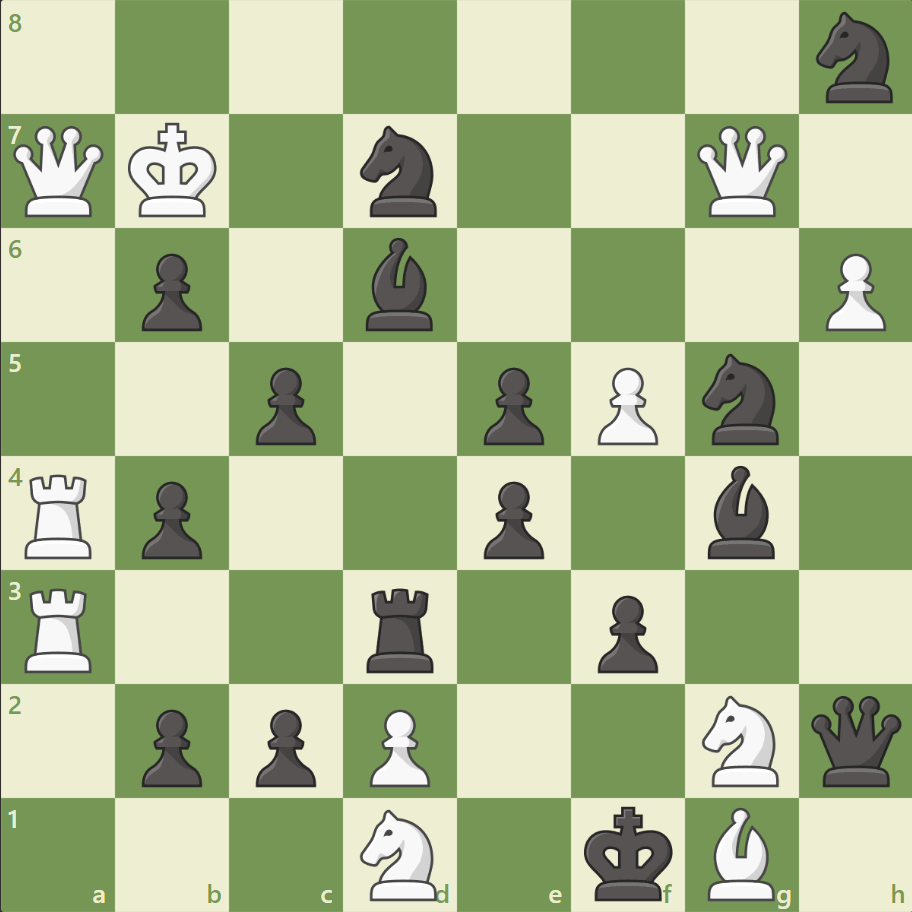B: (698, 801, 782, 904)
K: (124, 117, 224, 225)
N: (351, 802, 449, 904), (692, 688, 789, 791)
P: (815, 246, 889, 337), (588, 359, 662, 450), (361, 700, 435, 791)
Q: (10, 122, 109, 222), (691, 122, 790, 222)
R: (19, 466, 102, 563), (19, 579, 102, 676)
b: (358, 233, 442, 336), (698, 460, 782, 563)
k: (579, 798, 679, 906)
n: (351, 121, 449, 223), (806, 7, 903, 110), (692, 348, 789, 450)
p: (133, 246, 208, 337), (247, 359, 322, 450), (474, 359, 549, 450), (133, 473, 208, 564), (474, 473, 549, 564), (133, 700, 208, 791), (247, 700, 322, 791), (588, 586, 662, 677)
q: (805, 690, 904, 789)
r: (360, 579, 442, 676)
